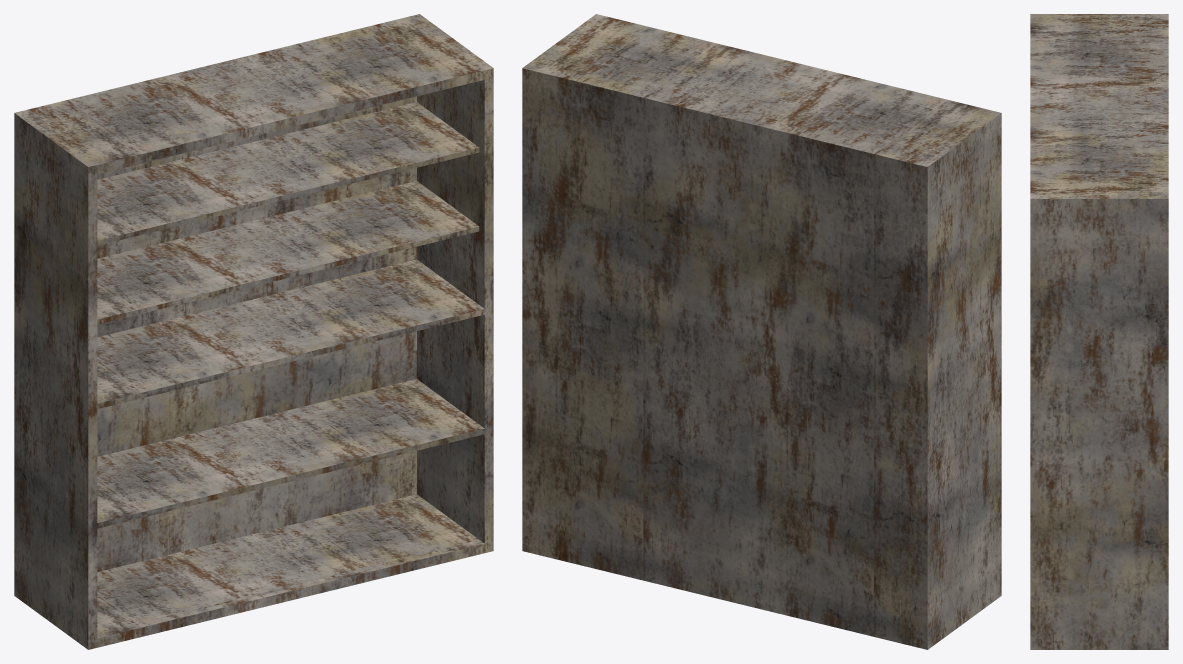
Rendered from shelf2.fbx.
The picture shows the model from 3 angles, left to right: view 1: azimuth 30°, elevation 25°; view 2: azimuth 150°, elevation 25°; view 3: azimuth 270°, elevation 25°; orthographic projection. The views are drawn at different scales.
Visible parts, largest first — view 1: Bookshelf; view 2: Bookshelf; view 3: Bookshelf.
Boxes of the visible parts, x1,y1,x2,y2 form: Bookshelf: [14, 14, 493, 649]; Bookshelf: [522, 14, 1001, 649]; Bookshelf: [1030, 14, 1168, 649].
Size of the model in its own units: 176 by 200 by 55.61.
